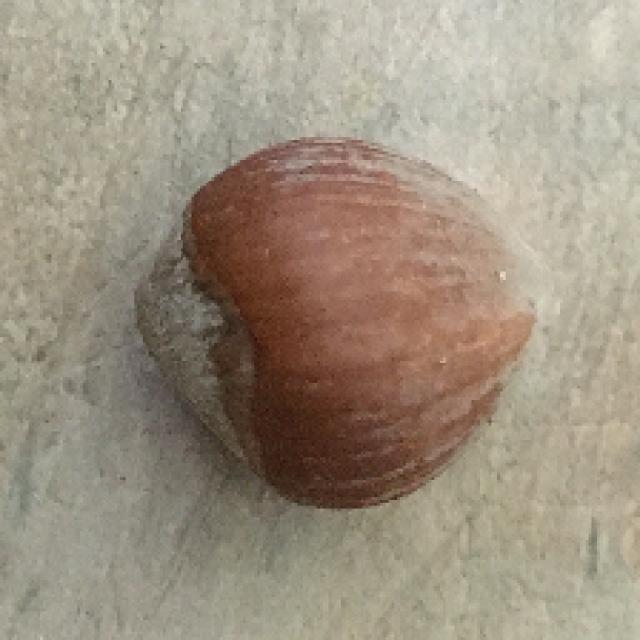qualityHazelnut: (138, 136, 543, 513)
